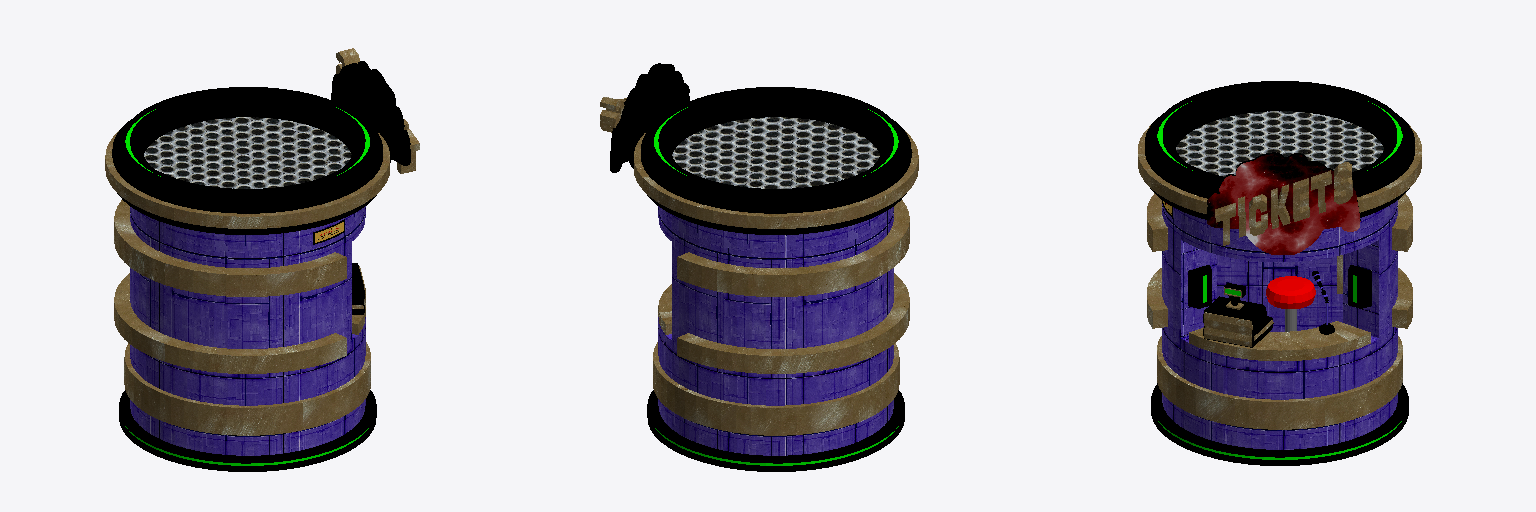
The picture shows the model from 3 angles: view 1: azimuth 30°, elevation 25°; view 2: azimuth 150°, elevation 25°; view 3: azimuth 270°, elevation 25°; orthographic projection.
Visible parts, largest first — view 1: objCabine; view 2: objCabine; view 3: objCabine.
Part boxes in pixels (x1,y1,x2,y2): objCabine: (105,48,419,471); objCabine: (600,63,918,471); objCabine: (1138,81,1421,465).
Size of the model in its own units: 4.93 by 5.72 by 4.62.
Materials: 13 (6 with a texture image).